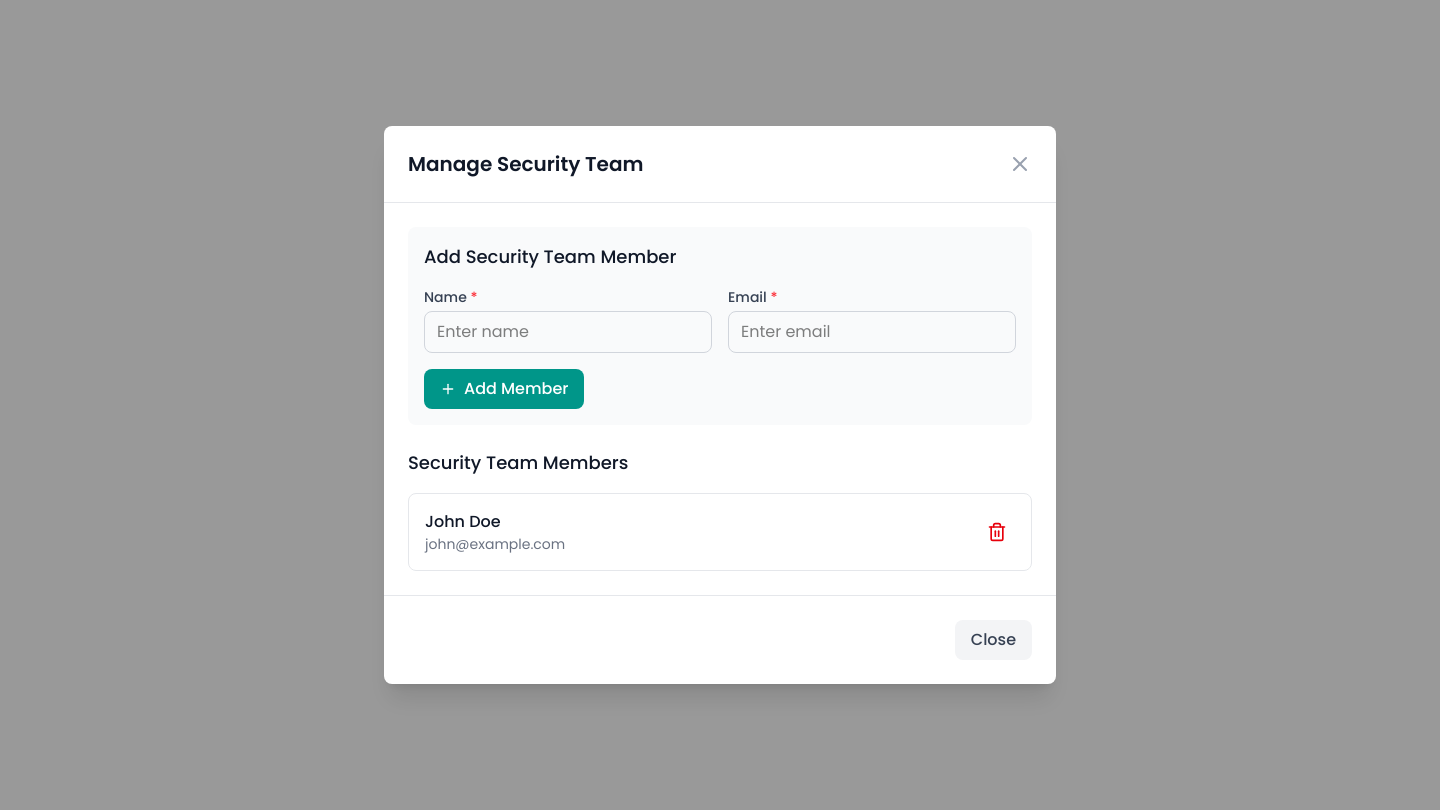
Test: SecurityTeamModal › Team Members List › should handle remove error
Click the button named "Remove John Doe": (997, 532) [979, 514, 1015, 550]
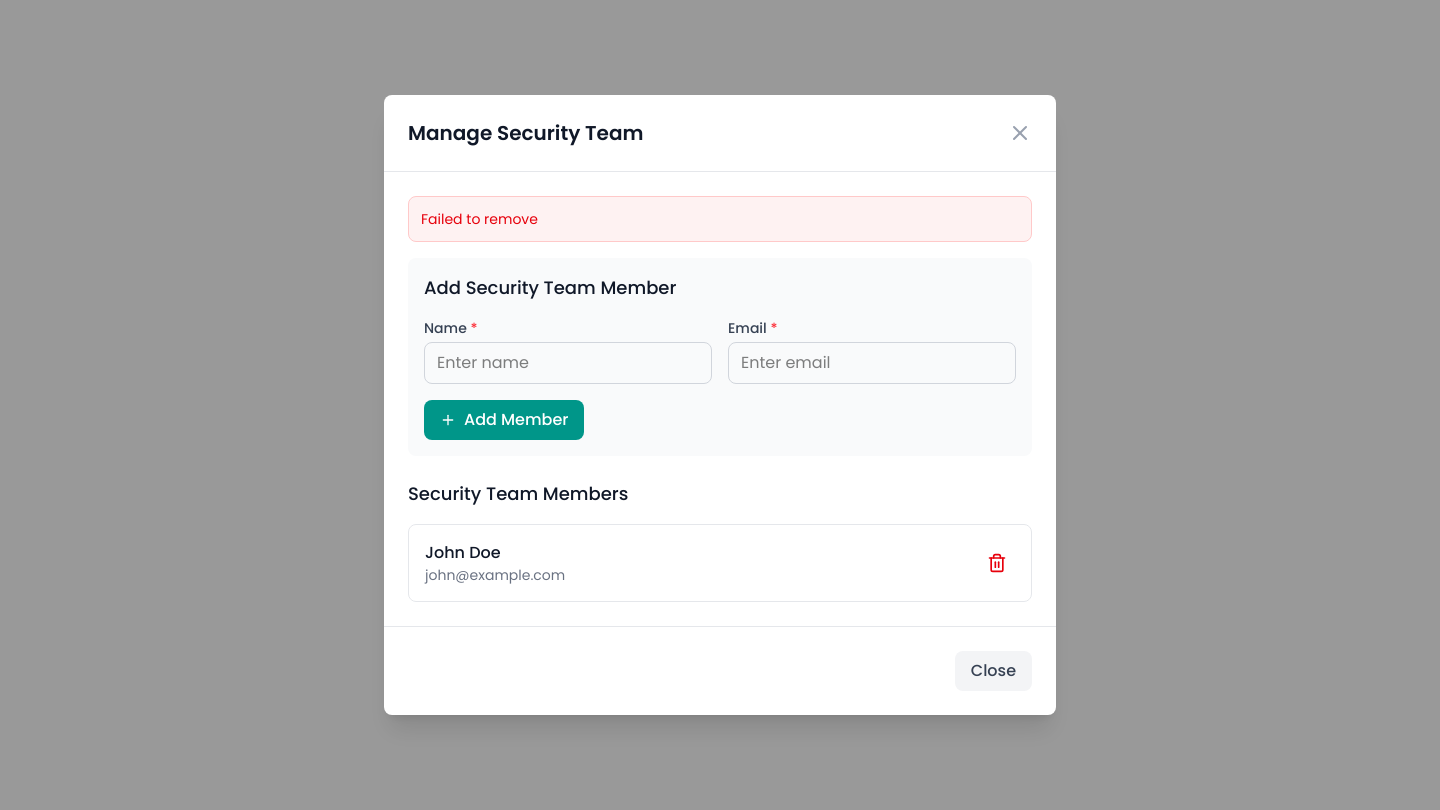
Result: the text "Failed to remove" is shown at [421, 209, 538, 229]
